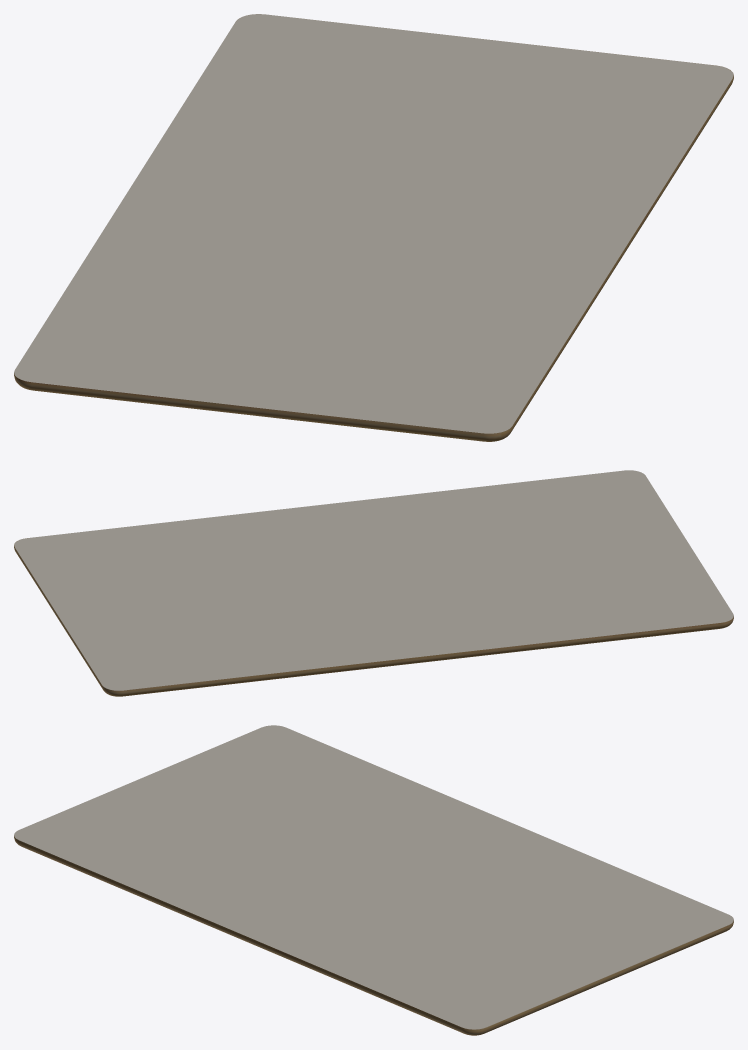
The model's file is diningtable_0206_top.glb.
3 views of the same model, one above another, from view 1: azimuth 30°, elevation 25°; view 2: azimuth 150°, elevation 25°; view 3: azimuth 270°, elevation 25° (orthographic). The views are drawn at different scales.
Visible parts, largest first — view 1: diningtable_0206_top; view 2: diningtable_0206_top; view 3: diningtable_0206_top.
Boxes of the visible parts, x1,y1,x2,y2 form: diningtable_0206_top: [14, 14, 733, 441]; diningtable_0206_top: [14, 470, 733, 696]; diningtable_0206_top: [14, 725, 733, 1035].
Size of the model in its own units: 1.52 by 0.0202 by 1.52.
1 material, 1 textured.
